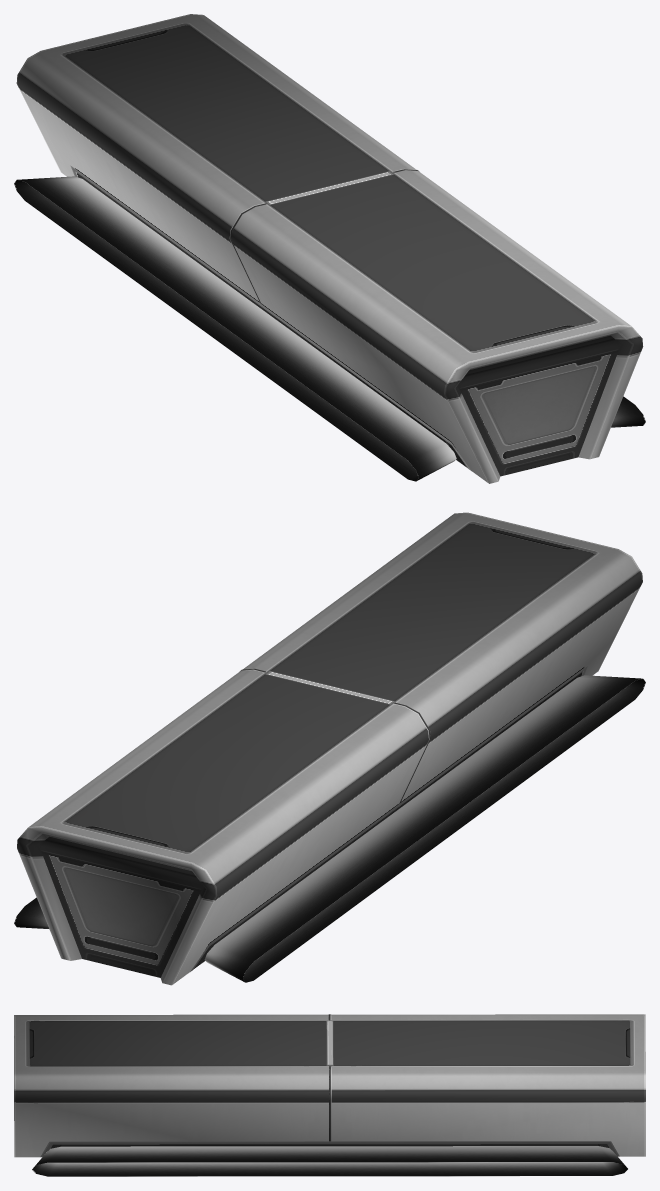
The model's file is Chair.fbx.
3 views of the same model, one above another, from view 1: azimuth 30°, elevation 25°; view 2: azimuth 150°, elevation 25°; view 3: azimuth 270°, elevation 25° (orthographic). The views are drawn at different scales.
Visible parts, largest first — view 1: 材質13; view 2: 材質13; view 3: 材質13.
Boxes of the visible parts, x1=… form: 材質13: x1=14, y1=14, x2=645, y2=483; 材質13: x1=14, y1=512, x2=645, y2=985; 材質13: x1=14, y1=1014, x2=645, y2=1176.
Bounding box in the file's own units: 124 × 65.17 × 398.
